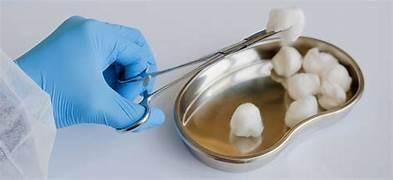Glove: (16, 16, 155, 128)
cotton: (0, 16, 163, 179), (15, 16, 164, 131), (258, 46, 351, 126), (0, 50, 55, 178), (0, 59, 55, 178), (0, 61, 55, 178), (272, 46, 351, 126), (272, 46, 351, 108), (303, 48, 351, 109), (266, 8, 304, 41), (271, 46, 301, 87), (230, 103, 263, 136), (228, 49, 260, 83), (285, 96, 317, 126), (231, 60, 271, 84), (303, 48, 337, 74), (272, 46, 301, 76), (287, 73, 319, 99), (321, 64, 351, 91), (281, 8, 304, 41), (318, 81, 345, 109), (202, 59, 231, 81), (229, 134, 262, 153), (204, 77, 236, 96), (266, 8, 293, 30), (229, 49, 259, 67), (303, 48, 323, 74), (231, 67, 258, 85), (204, 59, 231, 74), (320, 52, 338, 73), (230, 48, 258, 59), (271, 72, 286, 88), (257, 61, 272, 76), (283, 92, 294, 108)
